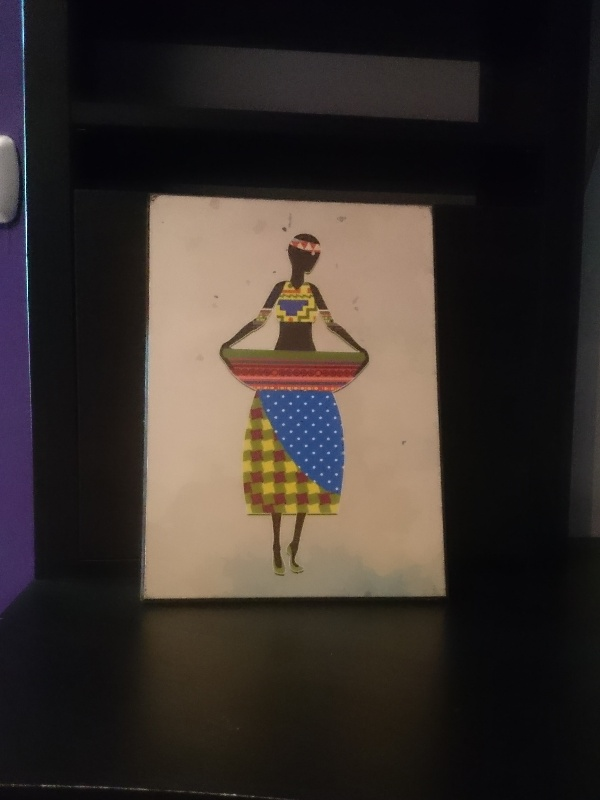my image: (150, 204, 434, 604)
